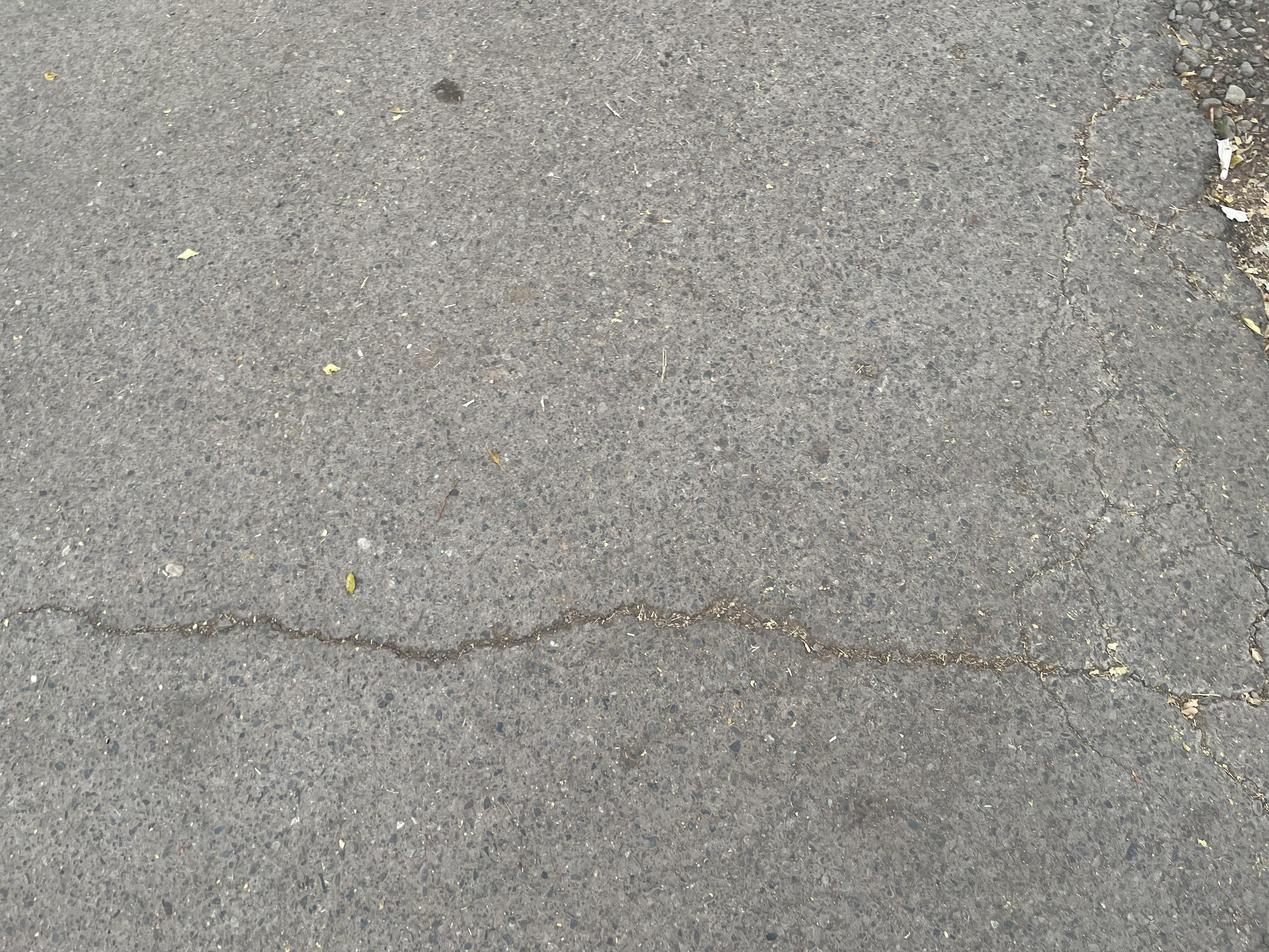GRIETA: (0, 601, 1091, 676)
PIEL DE COCODRILO: (977, 0, 1269, 952)
